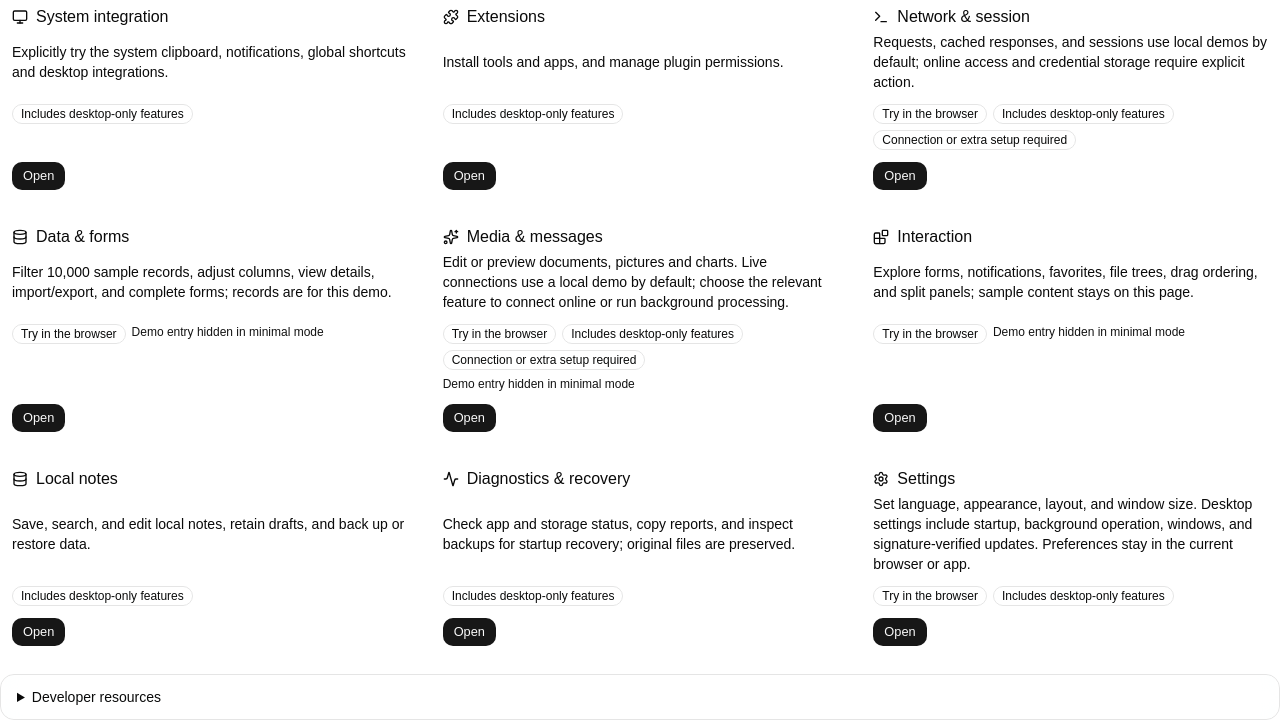
Test: en 能力目录将混合示例按语言着色并保留完整源码
(page scrolled)
Click the heading "Developer resources". click: [96, 697]
box: [1,675,1279,719]
(page scrolled)
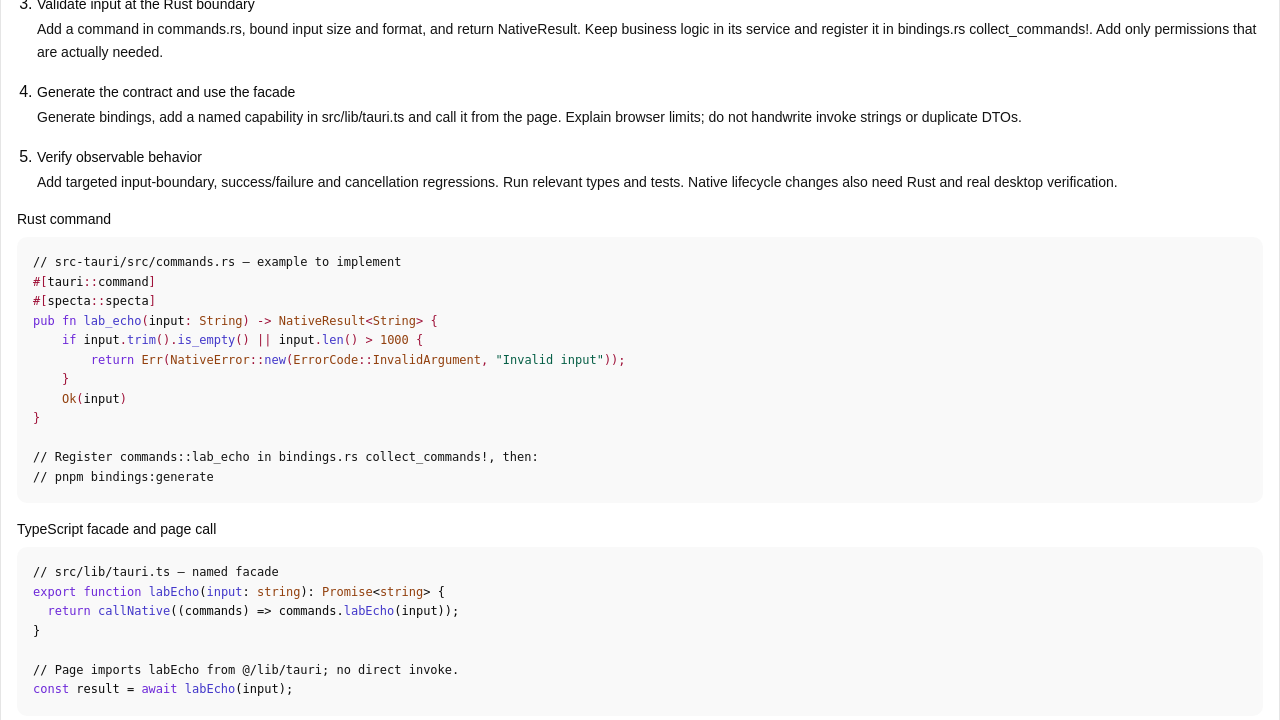
Expected: the text "pub" is shown, [33,314,55,328]
Expected: the text "lab_echo" is shown, [84,314,141,328]
Expected: the 1st text "String" is shown, [199,314,243,328]
